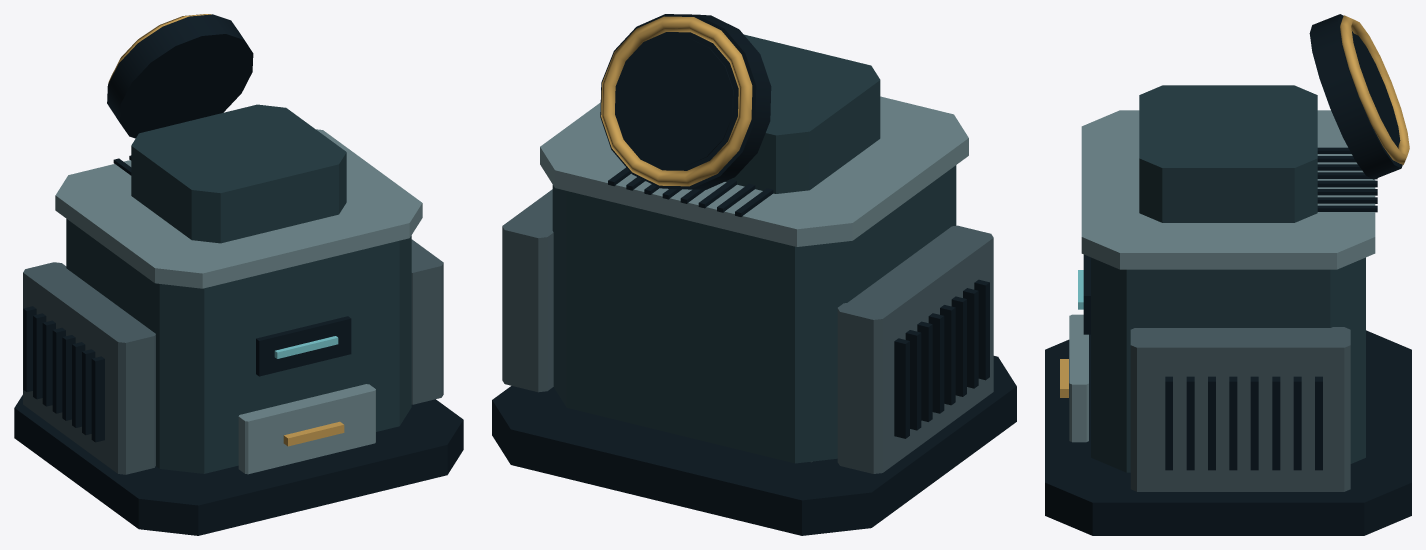
File: furnace_d0_lod1.meshopt.glb
3 renders of one model, left to right at view 1: azimuth 30°, elevation 25°; view 2: azimuth 150°, elevation 25°; view 3: azimuth 270°, elevation 25°, orthographic. The views are drawn at different scales.
Parts seen in each view (by area): view 1: FURNACE_BODY, CRUCIBLE_DOOR; view 2: FURNACE_BODY; view 3: FURNACE_BODY, CRUCIBLE_DOOR.
Boxes of the visible parts, x1,y1,x2,y2 form: FURNACE_BODY: (14,14,463,535); CRUCIBLE_DOOR: (238,384,375,474); FURNACE_BODY: (492,14,1016,535); FURNACE_BODY: (1045,14,1411,535); CRUCIBLE_DOOR: (1060,314,1088,442).
Bounding box in the file's own units: 3.56 × 3.85 × 3.
